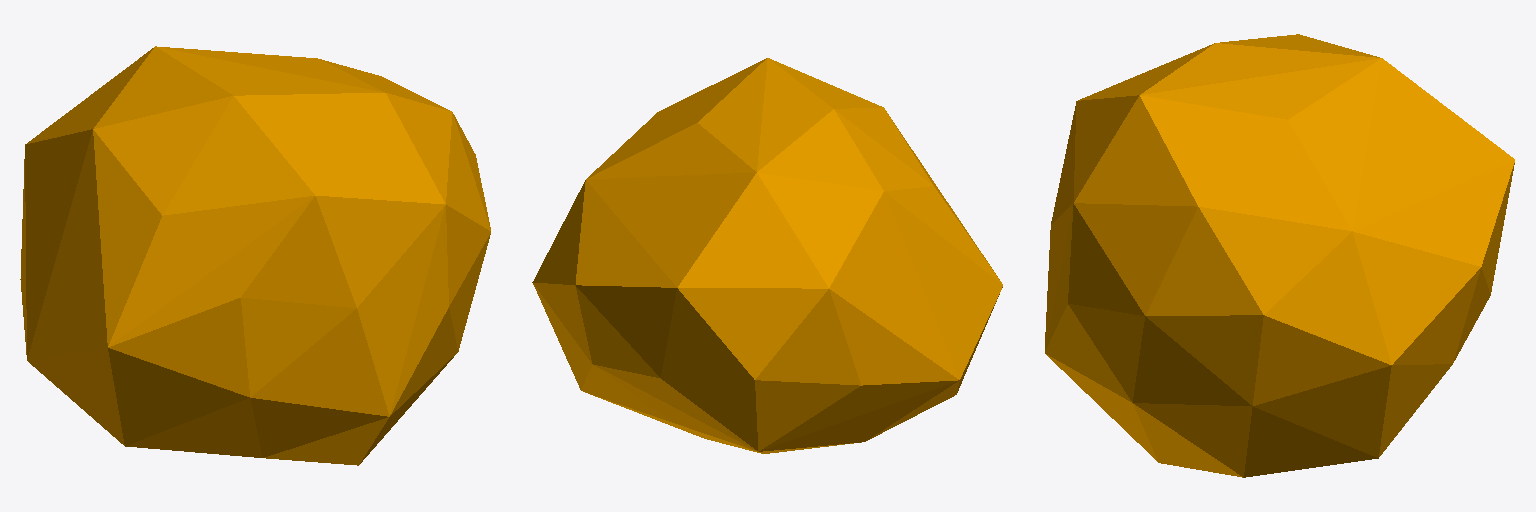
The robot description file, URDF, robot "ic1483":
<?xml version="1.0"?>
<robot name="ic1483">
  <link name="link">
    <contact>
      <lateral_friction value="0.6"/>
    </contact>
    <inertial>
      <mass value = "1.0621922858311086"/>
      <inertia ixx="0.0008535952484128791" ixy="-1.219250988013362e-19" ixz="8.33410936926777e-20" iyy="0.0009009068609891003" iyz="-2.7272343319220337e-19" izz="0.0010147629880644215" />
    </inertial>
    <visual name="visual">
      <geometry>
        <mesh filename="ic1483.obj"/>
      </geometry>
    </visual>
    <collision name="collision">
      <geometry>
        <mesh filename="ic1483.obj"/>
      </geometry>
    </collision>
  </link>
</robot>

--- What the picture shows (computed from the rendered views, not written in the file) ---
Views: 3 orthographic renders of the robot side by side, from view 1: azimuth 30°, elevation 25°; view 2: azimuth 150°, elevation 25°; view 3: azimuth 270°, elevation 25°.
Model ic1483 with 1 links and 0 joints (none), rooted at link, posed all joints at 0.
Links seen in each view (by area): view 1: link; view 2: link; view 3: link.
Boxes of the visible links, x1,y1,x2,y2 form: link: (20, 46, 490, 465); link: (532, 58, 1002, 453); link: (1045, 34, 1514, 477).
Bounding box of the posed robot: 0.1045 × 0.0965 × 0.085 m (x, y, z).
Meshes: 1 distinct files referenced, 1 mesh visuals loaded (1 OBJ).
